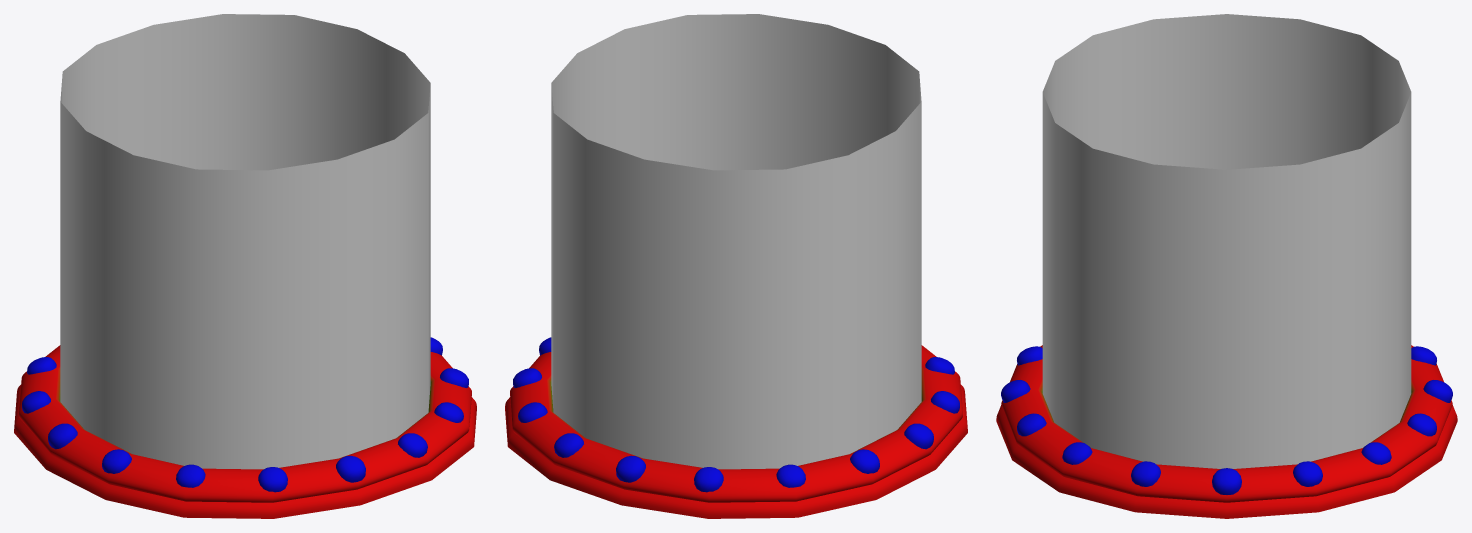
The model's file is Teleporter.fbx.
3 views of the same model, side by side, from view 1: azimuth 30°, elevation 25°; view 2: azimuth 150°, elevation 25°; view 3: azimuth 270°, elevation 25° (orthographic).
Parts seen in each view (by area): view 1: Teleporter-Beam, Teleporter-Base; view 2: Teleporter-Beam, Teleporter-Base; view 3: Teleporter-Beam, Teleporter-Base.
Part boxes in pixels (<box>): Teleporter-Beam: <box>60,14,430,469</box>; Teleporter-Base: <box>14,337,476,518</box>; Teleporter-Beam: <box>551,14,921,469</box>; Teleporter-Base: <box>505,337,967,518</box>; Teleporter-Beam: <box>1042,14,1411,468</box>; Teleporter-Base: <box>996,345,1457,518</box>.
Bounding box in the file's own units: 275 × 275 × 217.
